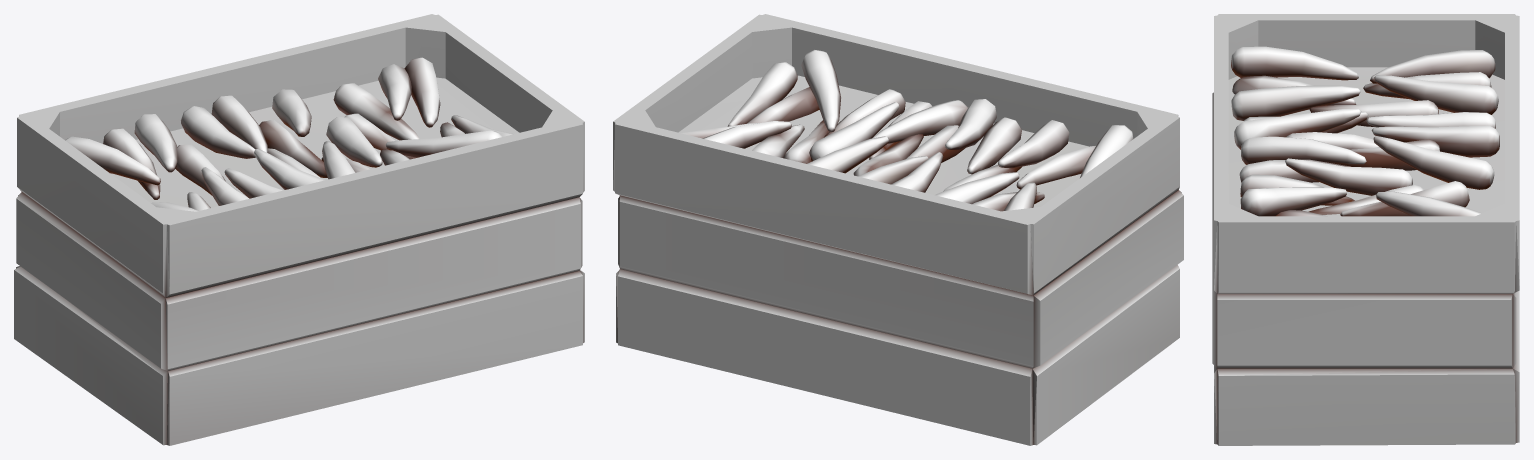
File: sb_obj_indoor015_Vegetables02c.fbx
The picture shows the model from 3 angles, left to right: view 1: azimuth 30°, elevation 25°; view 2: azimuth 150°, elevation 25°; view 3: azimuth 270°, elevation 25°; orthographic projection.
Visible parts, largest first — view 1: sb_obj_indoor015_Vegetables02c; view 2: sb_obj_indoor015_Vegetables02c; view 3: sb_obj_indoor015_Vegetables02c.
Boxes of the visible parts, x1=… form: sb_obj_indoor015_Vegetables02c: x1=14, y1=14, x2=584, y2=445; sb_obj_indoor015_Vegetables02c: x1=613, y1=14, x2=1183, y2=445; sb_obj_indoor015_Vegetables02c: x1=1212, y1=14, x2=1519, y2=445.
Bounding box in the file's own units: 1.01 × 0.5 × 0.6233.
